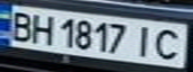1: (54, 16, 75, 48), (90, 19, 109, 53)
7: (106, 20, 130, 55)
8: (72, 17, 93, 51)
B: (3, 8, 36, 42)
C: (151, 26, 187, 62)
H: (27, 11, 57, 45)
I: (130, 24, 160, 58)
